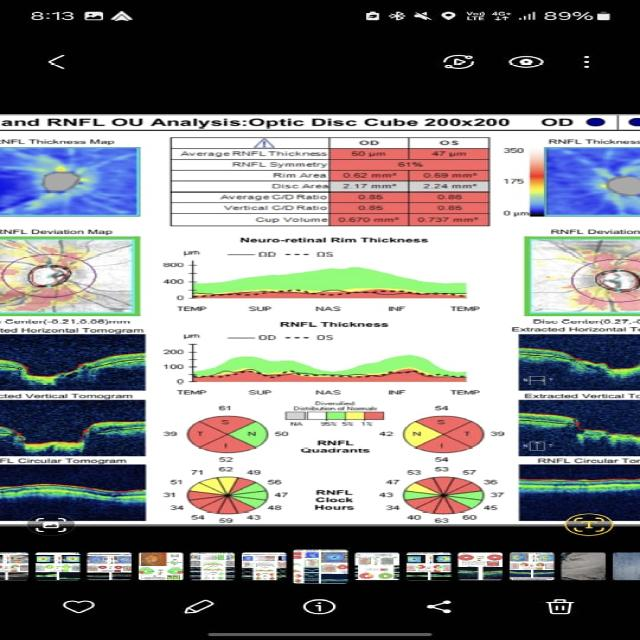rim area: (188, 171, 483, 181)
rim area-od: (338, 171, 405, 181)
rim area-os: (418, 170, 482, 183)
vertical cd ratio: (190, 201, 479, 215)
vertical cd ratio-od: (334, 200, 406, 212)
vertical cd ratio-os: (428, 201, 480, 213)
